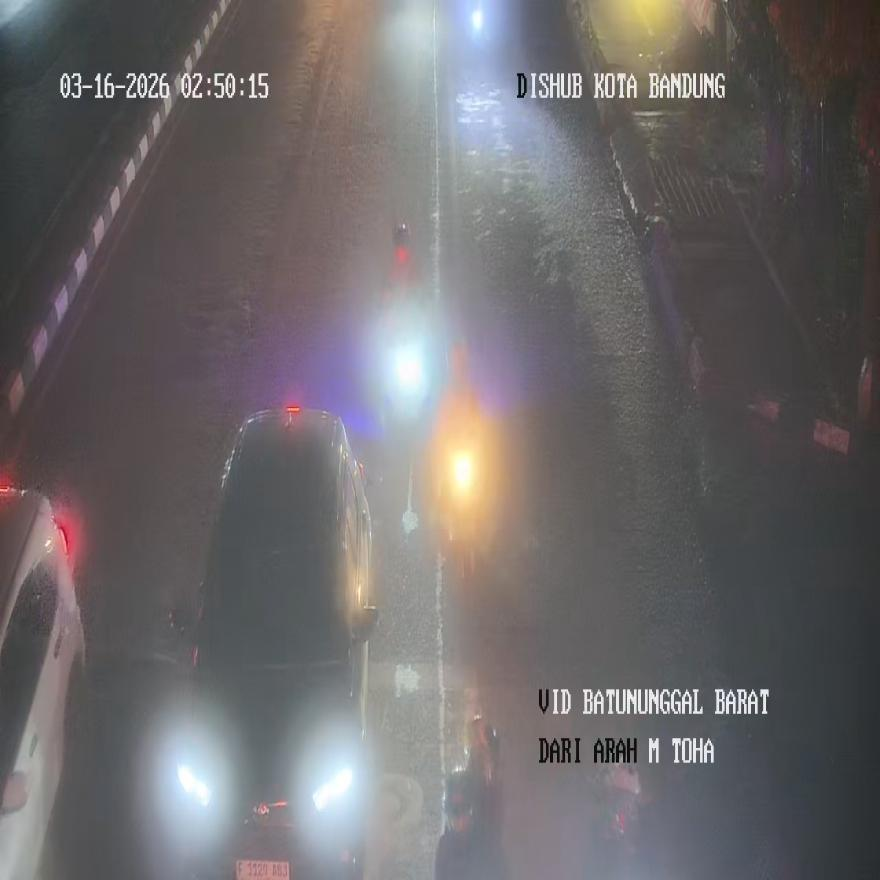Motor: (160, 408, 378, 878), (0, 486, 87, 876)
Truk: (434, 716, 506, 878), (429, 448, 481, 526), (380, 326, 440, 393)
